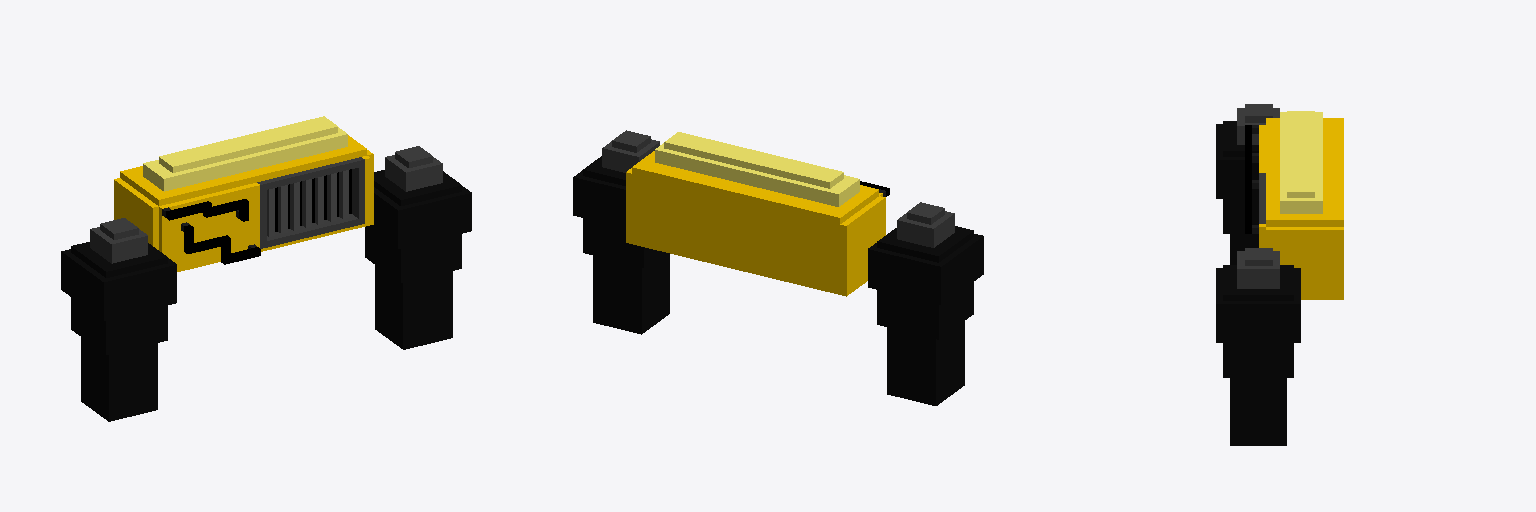
3 renders of one model, left to right at view 1: azimuth 30°, elevation 25°; view 2: azimuth 150°, elevation 25°; view 3: azimuth 270°, elevation 25°, orthographic.
Visible parts, largest first — view 1: object 1; view 2: object 1; view 3: object 1.
Part boxes in pixels (x1,y1,x2,y2): object 1: (61,116,471,421); object 1: (573,130,983,405); object 1: (1216,104,1343,445).
Bounding box in the file's own units: 6 × 3.3 × 1.8.
1 materials, 1 textured.